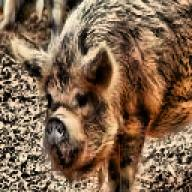boar: (9, 0, 192, 192), (0, 0, 100, 37)
